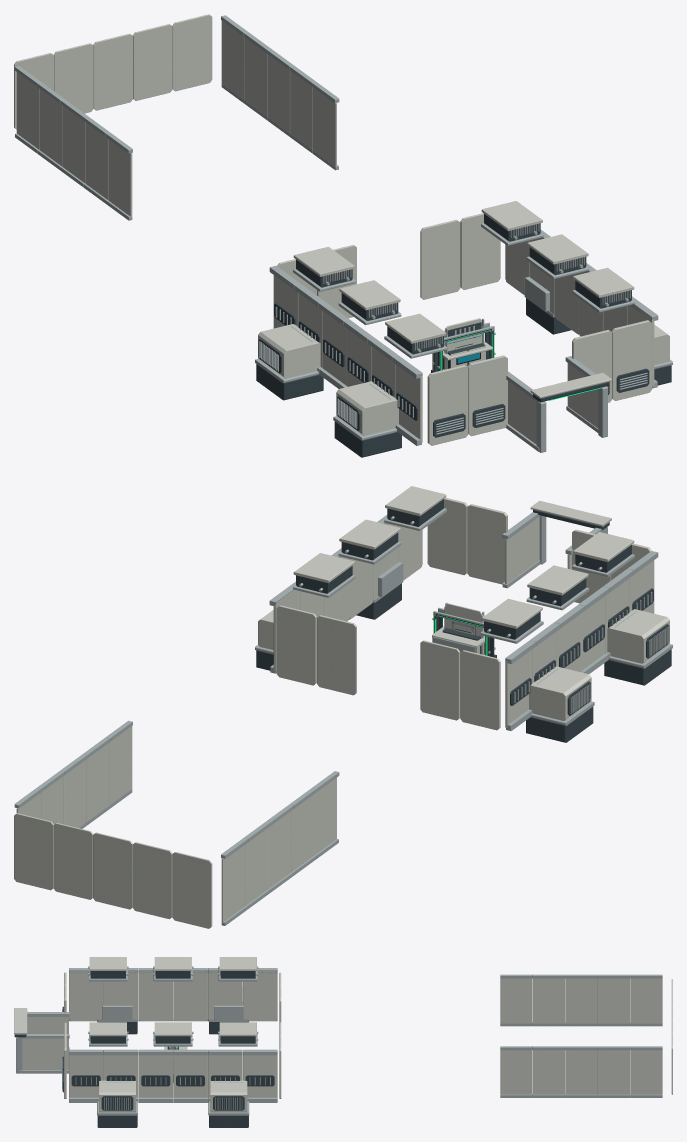
The model's file is genesis-cinematic-kit.glb.
The picture shows the model from 3 angles, top to bottom: view 1: azimuth 30°, elevation 25°; view 2: azimuth 150°, elevation 25°; view 3: azimuth 270°, elevation 25°; orthographic projection. The views are drawn at different scales.
Visible parts, largest first — view 1: master-exterior__composite, master-exterior__titanium, master-exterior__graphite; view 2: master-exterior__composite, master-exterior__titanium, master-exterior__graphite; view 3: master-exterior__composite, master-exterior__titanium, master-exterior__graphite.
Boxes of the visible parts, left/top/right/bottom form: master-exterior__composite: left=14, top=14, right=669, bottom=445; master-exterior__titanium: left=14, top=15, right=672, bottom=452; master-exterior__graphite: left=256, top=214, right=671, bottom=457; master-exterior__composite: left=14, top=486, right=669, bottom=928; master-exterior__titanium: left=14, top=508, right=672, bottom=925; master-exterior__graphite: left=256, top=499, right=671, bottom=742; master-exterior__composite: left=14, top=957, right=672, bottom=1112; master-exterior__titanium: left=16, top=966, right=662, bottom=1115; master-exterior__graphite: left=14, top=971, right=274, bottom=1127.
Size of the model in its own units: 22.14 by 7.84 by 56.82.
7 materials, 4 textured.
